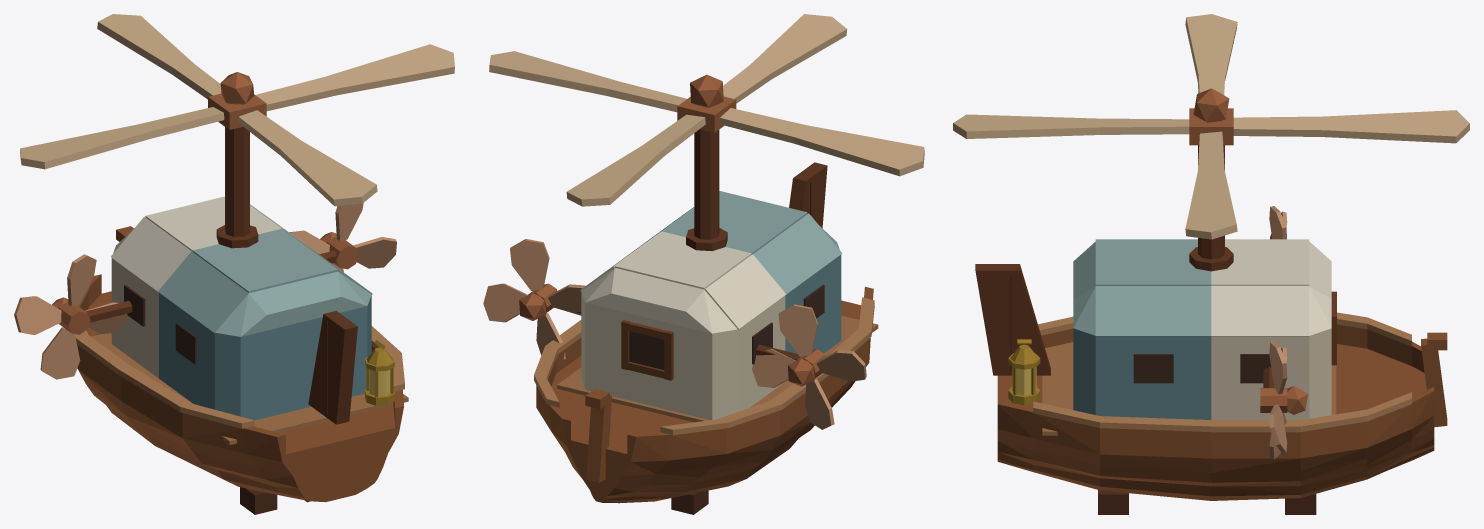
3 views of the same model, side by side, from view 1: azimuth 30°, elevation 25°; view 2: azimuth 150°, elevation 25°; view 3: azimuth 270°, elevation 25° (orthographic). The views are drawn at different scales.
Size of the model in its own units: 8.12 by 7.07 by 8.12.
